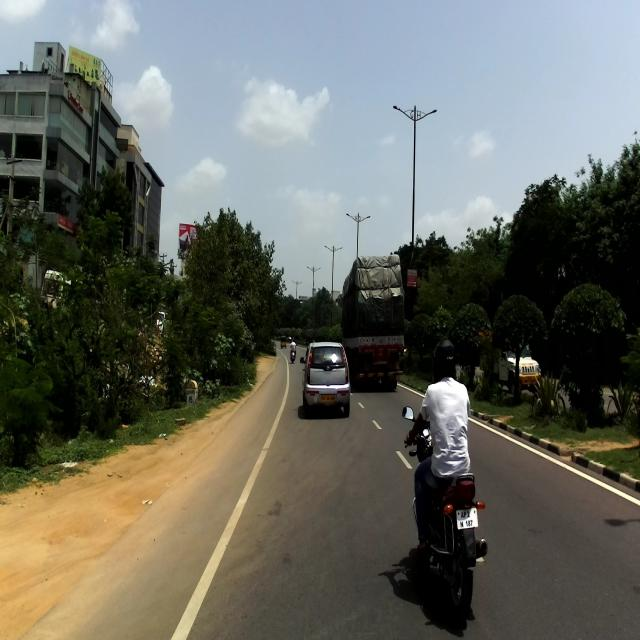car: (299, 338, 352, 414)
motorcycle: (402, 405, 488, 617)
truck: (338, 254, 411, 391)
